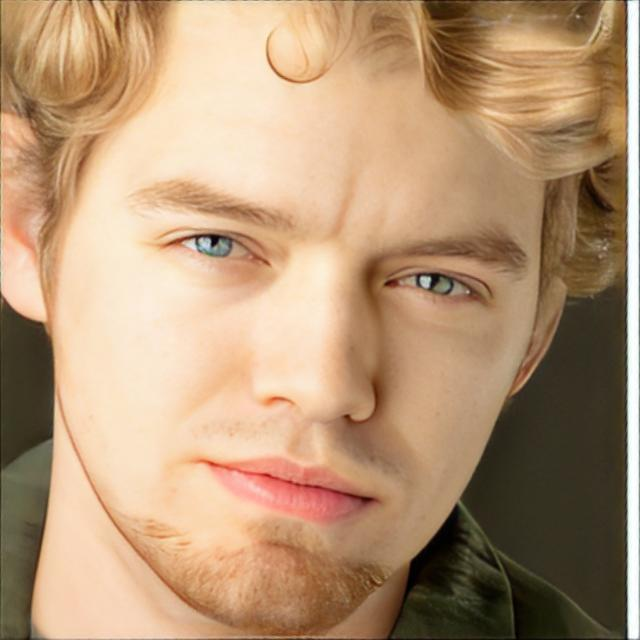anger: (66, 32, 544, 630)
